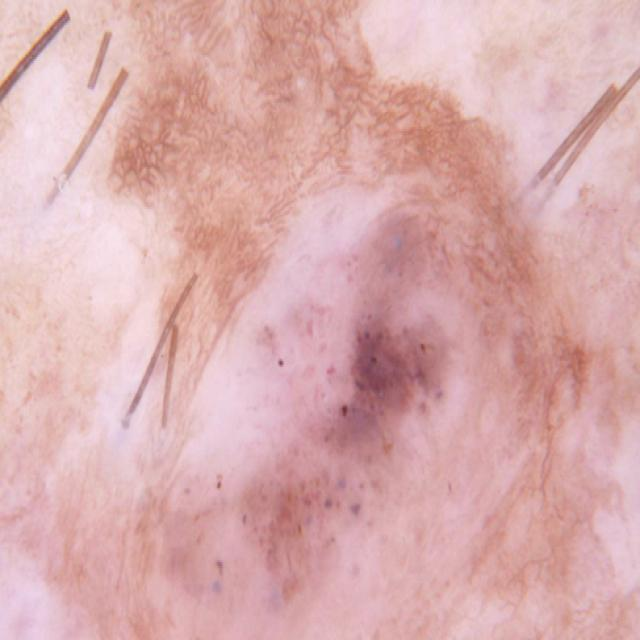Carcinoma: (113, 17, 574, 640)
